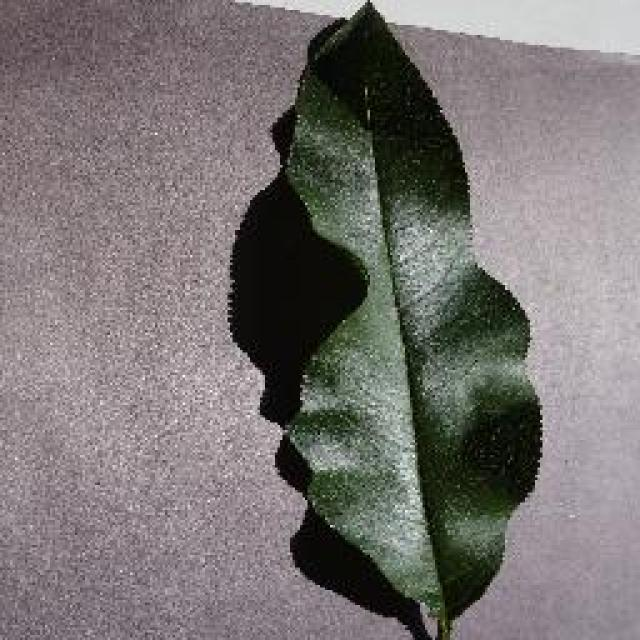Pea_healthy: (268, 22, 540, 572)
